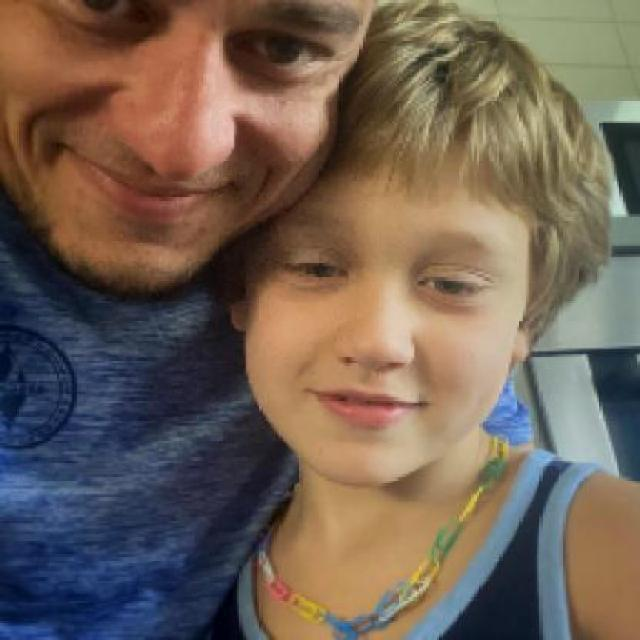child: (208, 0, 640, 638)
